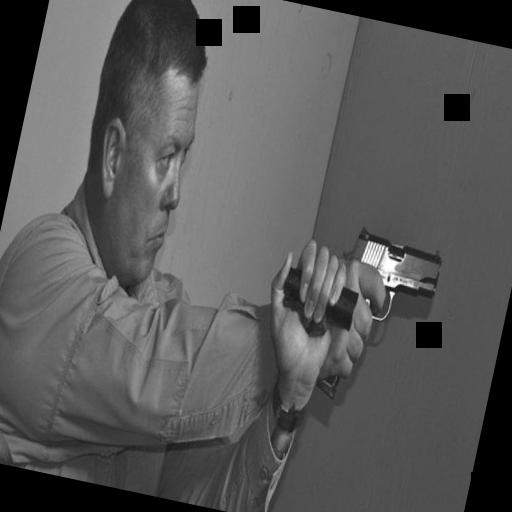Handgun: (296, 206, 448, 421)
